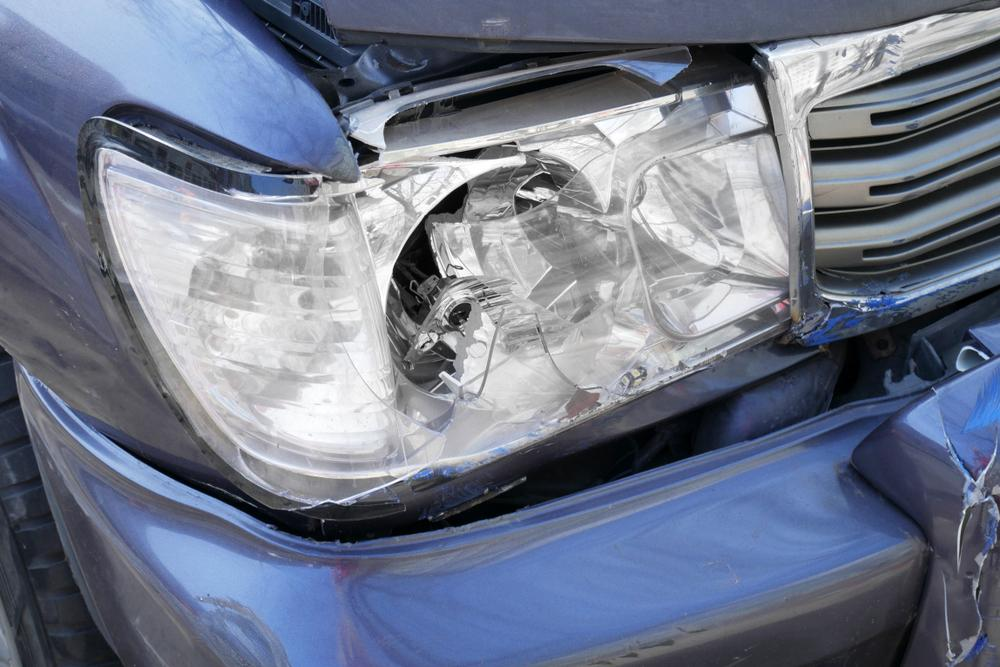crack: (933, 387, 1000, 667)
lamp broken: (94, 55, 794, 510)
scratch: (179, 594, 288, 667)
